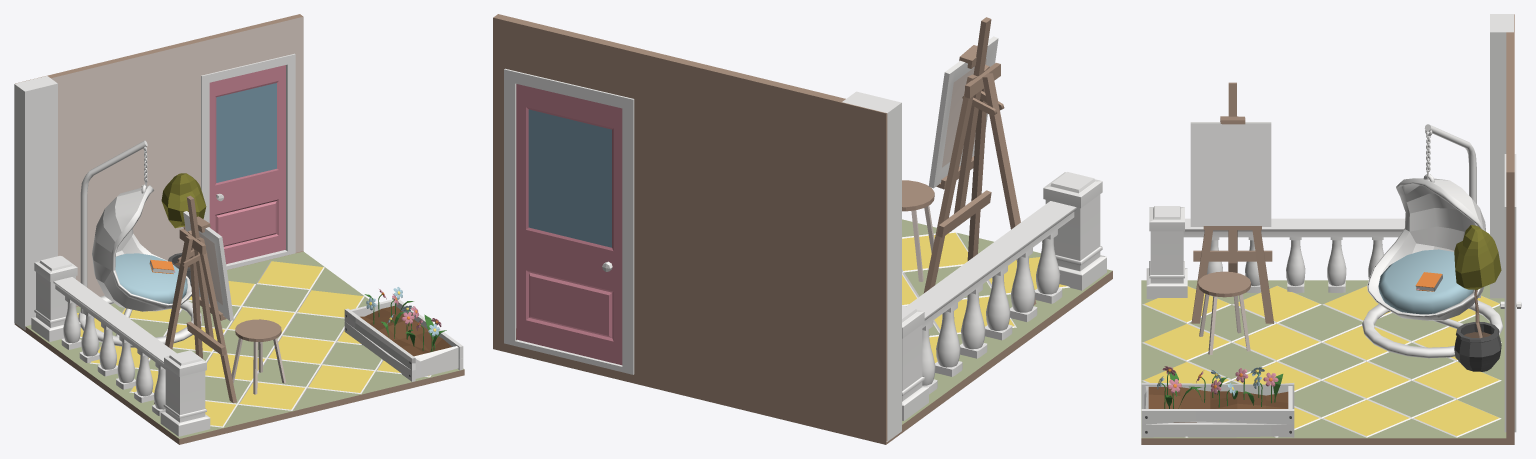
File: Room_20_Balcony.fbx
3 renders of one model, left to right at view 1: azimuth 30°, elevation 25°; view 2: azimuth 150°, elevation 25°; view 3: azimuth 270°, elevation 25°, orthographic. The views are drawn at different scales.
Visible parts, largest first — view 1: Base_Room_20, Floortile_Room_20, Door_Room_20, Fence_Room_20, Chair_Room_20, Garden_Room_20, Easel_Room_20, Tree_Room_20, Stool_Room_20; view 2: Base_Room_20, Door_Room_20, Fence_Room_20, Easel_Room_20, Floortile_Room_20, Stool_Room_20; view 3: Floortile_Room_20, Base_Room_20, Chair_Room_20, Easel_Room_20, Fence_Room_20, Garden_Room_20, Tree_Room_20, Stool_Room_20, Door_Room_20, Book_Room_20.
Part boxes in pixels (box(x1,y1,x2,y2)): Base_Room_20: box(14, 14, 464, 444); Floortile_Room_20: box(77, 261, 431, 427); Door_Room_20: box(201, 53, 295, 269); Fence_Room_20: box(31, 256, 210, 436); Chair_Room_20: box(78, 140, 201, 347); Garden_Room_20: box(344, 287, 463, 381); Easel_Room_20: box(154, 195, 236, 403); Tree_Room_20: box(161, 173, 206, 296); Stool_Room_20: box(231, 319, 285, 394); Base_Room_20: box(493, 14, 1112, 444); Door_Room_20: box(504, 68, 634, 374); Fence_Room_20: box(902, 172, 1106, 420); Easel_Room_20: box(923, 17, 1036, 304); Floortile_Room_20: box(902, 231, 1069, 362); Stool_Room_20: box(902, 180, 934, 281); Floortile_Room_20: box(1142, 285, 1501, 437); Base_Room_20: box(1141, 14, 1514, 444); Chair_Room_20: box(1362, 124, 1503, 358); Easel_Room_20: box(1190, 82, 1273, 323); Fence_Room_20: box(1146, 206, 1480, 298); Garden_Room_20: box(1141, 366, 1294, 437); Tree_Room_20: box(1454, 225, 1501, 371); Stool_Room_20: box(1198, 271, 1250, 355); Door_Room_20: box(1500, 154, 1521, 432); Book_Room_20: box(1415, 272, 1442, 291).
Size of the model in its own units: 501 by 510 by 403.
